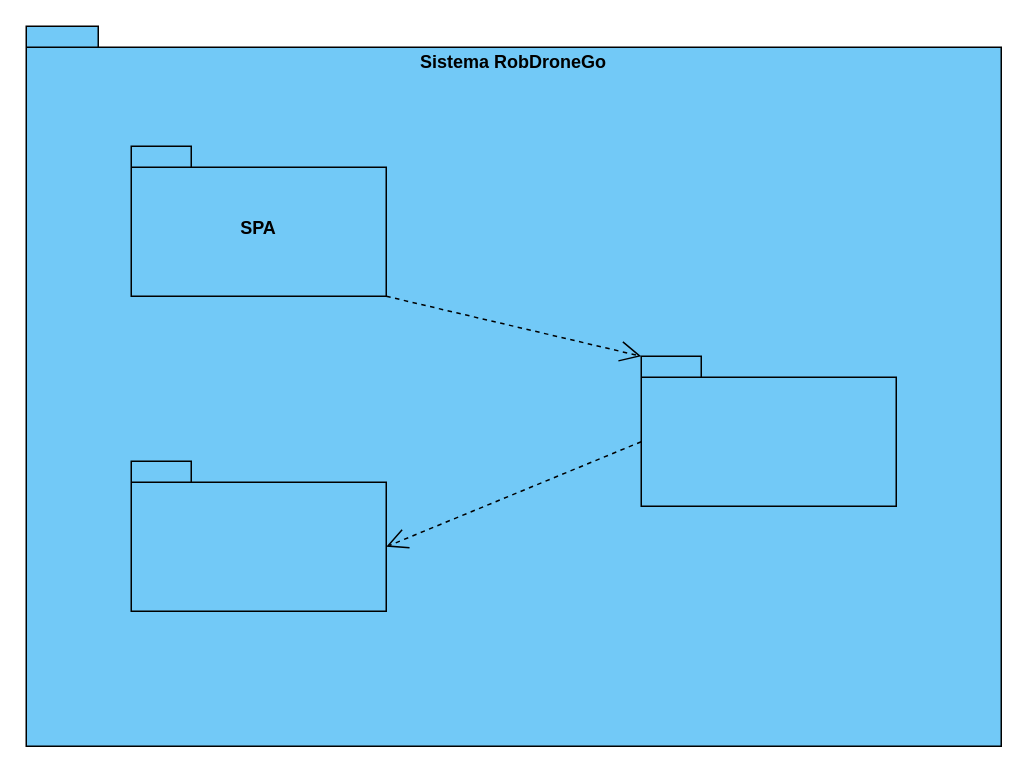
Some shapes in this 1028 by 773 pixel diagram are drawn without their labels. The centre of each missing label's shape, as x and y in pixels:
"MDRoboISEP" goes at point (768, 430).
"Planeamento" goes at point (258, 535).
